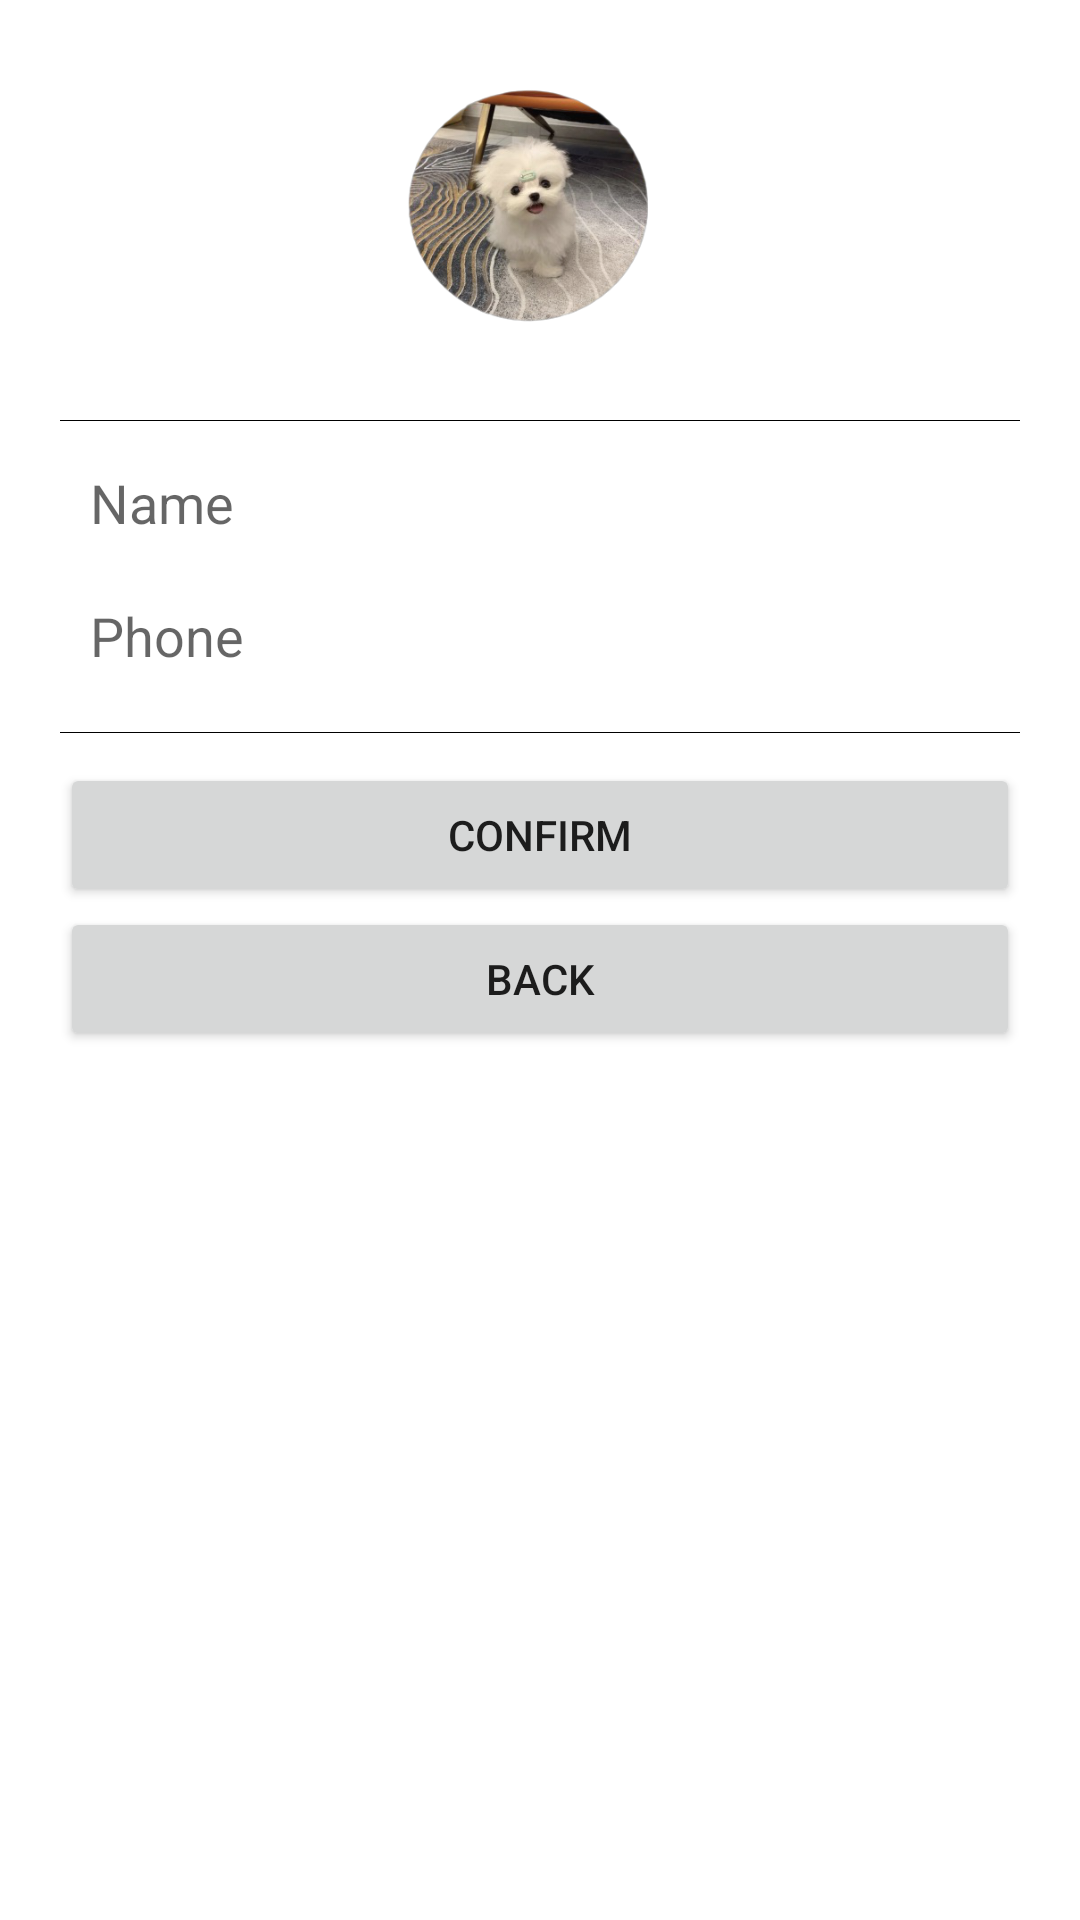

Point at icon controls on the screen. Image size 1080*1920, points as [x,y].
profile: [528,205]
